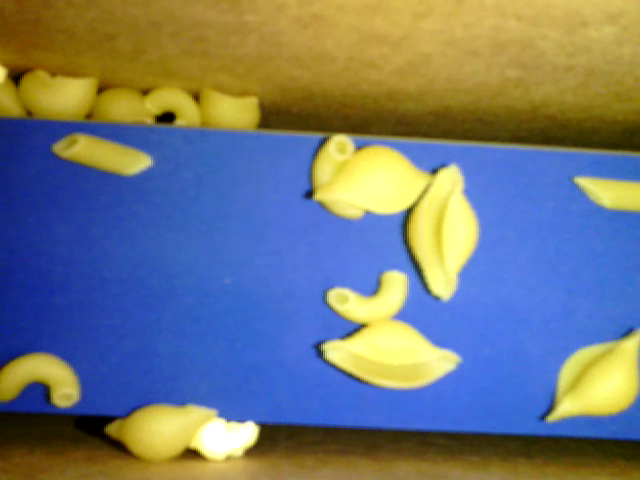elbow: (310, 134, 366, 218), (326, 268, 407, 325), (1, 353, 81, 407), (145, 84, 197, 129)
penne: (48, 132, 153, 176), (571, 174, 639, 210)
shell: (405, 162, 478, 302), (321, 317, 461, 389), (541, 328, 639, 423), (312, 144, 436, 213), (105, 401, 220, 461), (17, 68, 99, 123), (199, 86, 260, 132), (91, 84, 156, 127)
